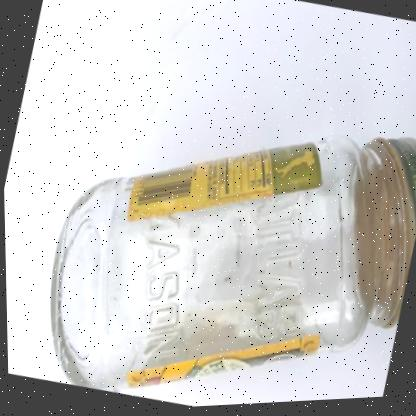Glass: (49, 139, 416, 393)
